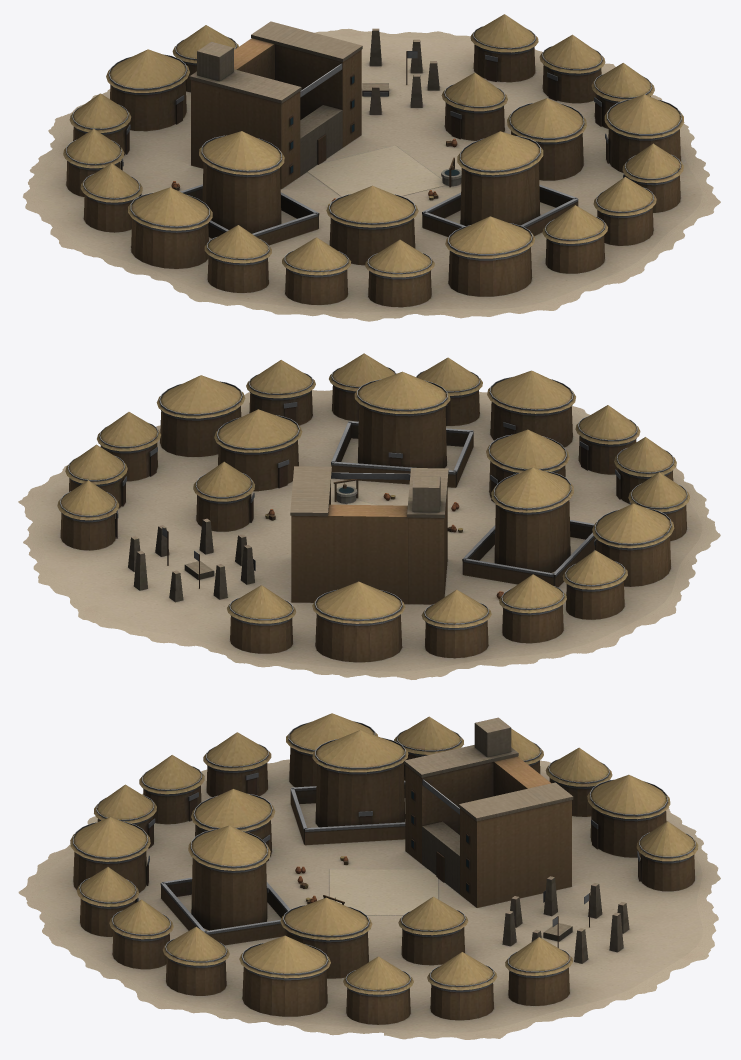
The model's file is bronze-town-big-a-maghreb.glb.
3 views of the same model, one above another, from view 1: azimuth 30°, elevation 25°; view 2: azimuth 150°, elevation 25°; view 3: azimuth 270°, elevation 25° (orthographic).
Visible parts, largest first — view 1: LOD0; view 2: LOD0; view 3: LOD0.
Part boxes in pixels (x1=…): LOD0: x1=23, y1=14, x2=720, y2=321; LOD0: x1=18, y1=353, x2=720, y2=679; LOD0: x1=18, y1=713, x2=720, y2=1039.
Size of what is drawn, in the model's own units: 8.01 by 1.44 by 7.94.
3 materials, 3 textured.
